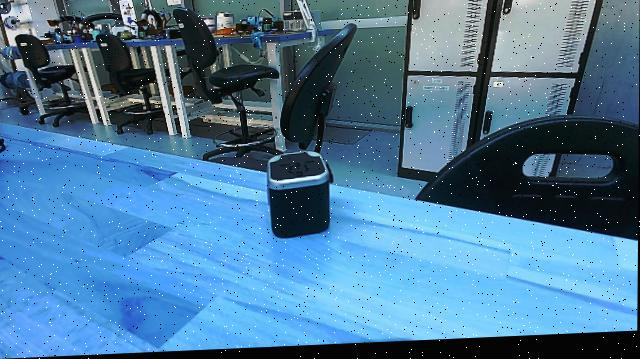adapter: (258, 152, 336, 245)
